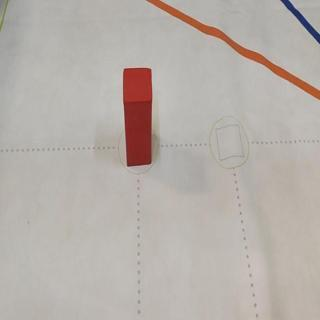redbox: (123, 66, 154, 168)
